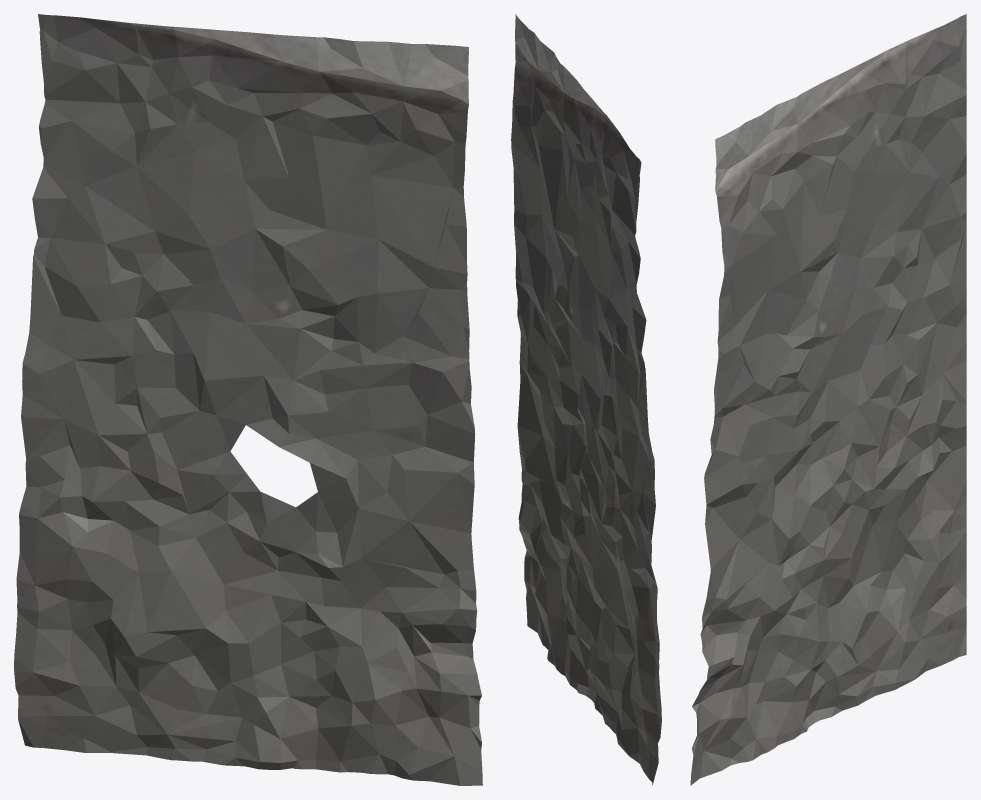
3 renders of one model, left to right at view 1: azimuth 30°, elevation 25°; view 2: azimuth 150°, elevation 25°; view 3: azimuth 270°, elevation 25°, orthographic. The views are drawn at different scales.
Bounding box in the file's own units: 0.3768 × 0.8374 × 0.324.
Materials: 2 (2 with a texture image).
